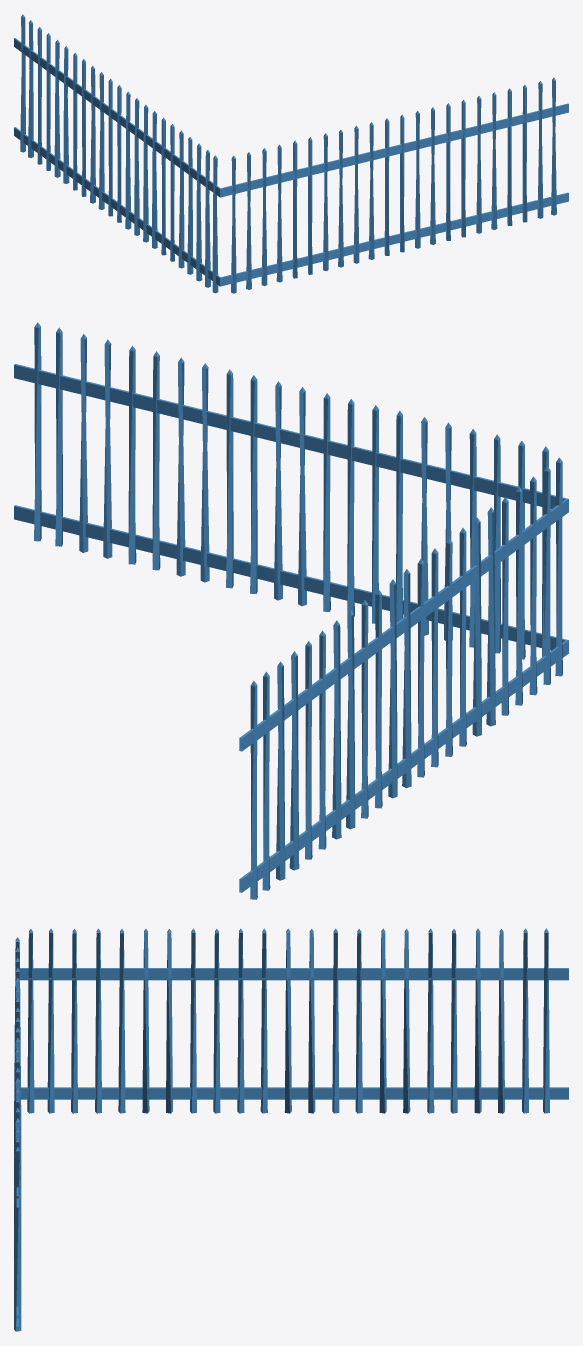
Rendered from Deco_Fence_Bars_Cor_A.fbx.
3 views of the same model, one above another, from view 1: azimuth 30°, elevation 25°; view 2: azimuth 150°, elevation 25°; view 3: azimuth 270°, elevation 25° (orthographic). The views are drawn at different scales.
Parts seen in each view (by area): view 1: Deco_Fence_Bars_Cor_A; view 2: Deco_Fence_Bars_Cor_A; view 3: Deco_Fence_Bars_Cor_A.
Boxes of the visible parts, <box> form: Deco_Fence_Bars_Cor_A: <box>14,14,568,293</box>; Deco_Fence_Bars_Cor_A: <box>14,322,568,899</box>; Deco_Fence_Bars_Cor_A: <box>14,928,568,1331</box>.
Size of the model in its own units: 856 by 320 by 876.
